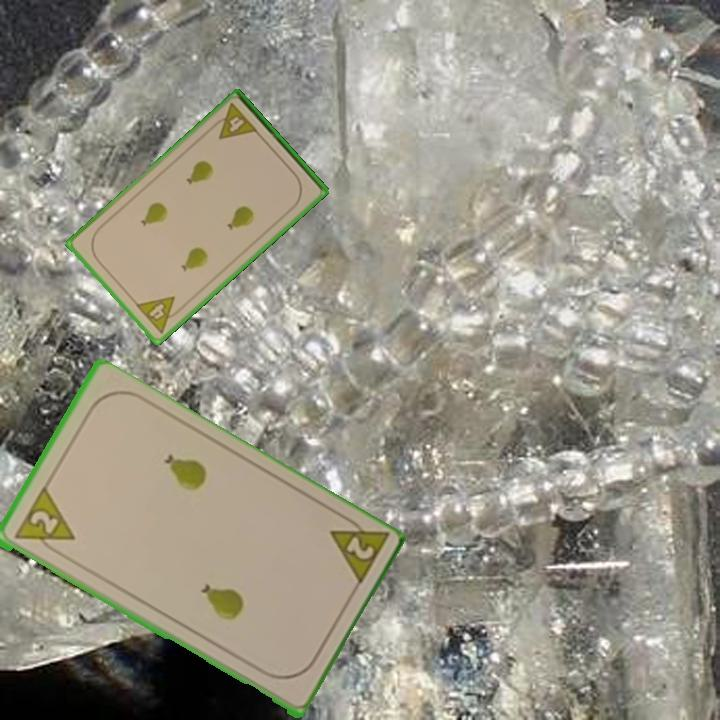2p: (325, 509, 391, 591), (26, 506, 61, 537)
4p: (132, 293, 187, 337), (207, 100, 261, 143)
